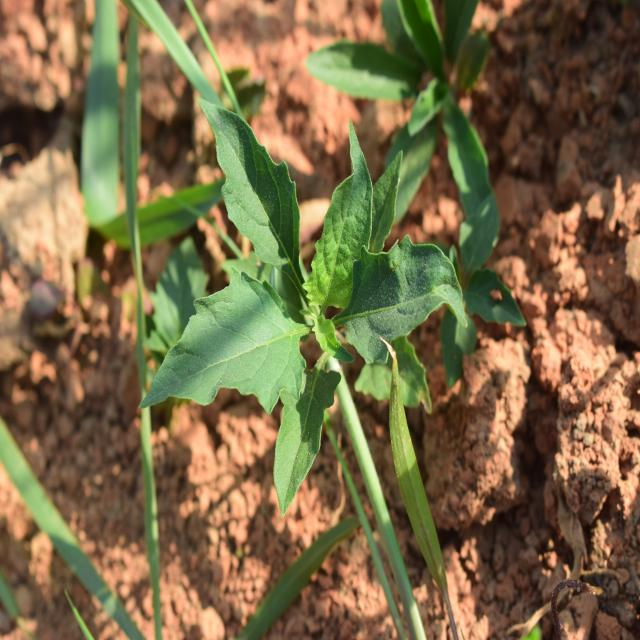Black_nightshade: (168, 118, 428, 472)
